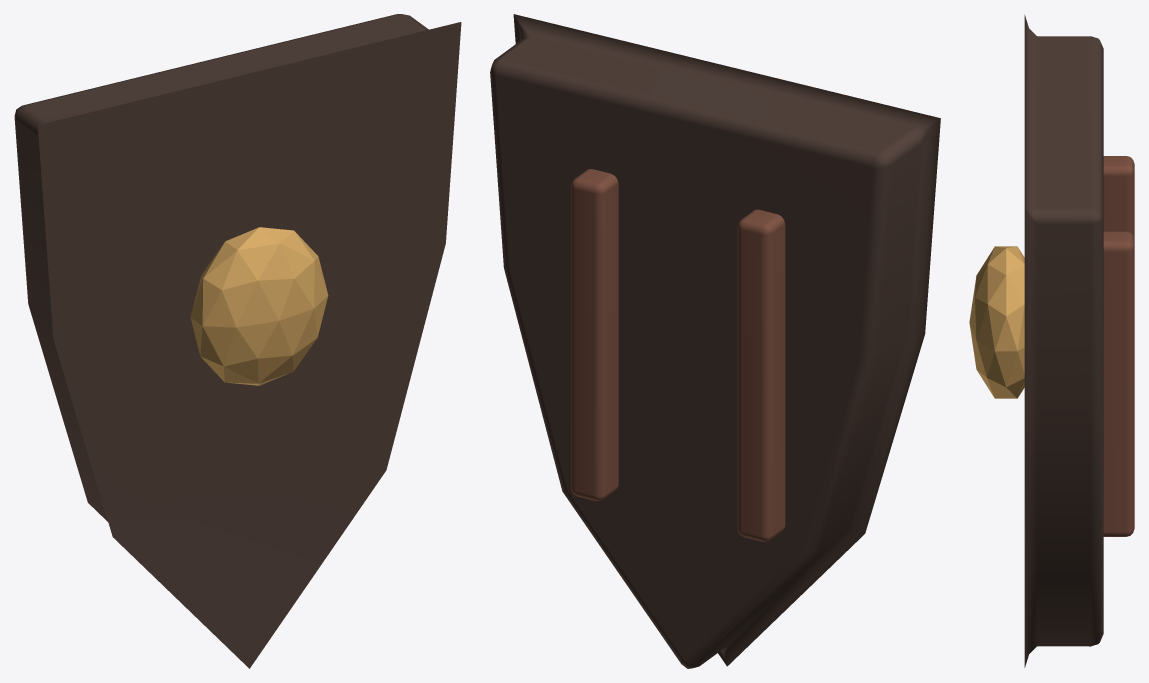
The model's file is fitted_shield.glb.
3 renders of one model, left to right at view 1: azimuth 30°, elevation 25°; view 2: azimuth 150°, elevation 25°; view 3: azimuth 270°, elevation 25°, orthographic. The views are drawn at different scales.
Parts seen in each view (by area): view 1: Shield | steel-rimmed body, Shield | boss; view 2: Shield | steel-rimmed body, Shield | back arm strap, Shield | back arm strap.001; view 3: Shield | steel-rimmed body, Shield | back arm strap.001, Shield | boss, Shield | back arm strap.
Boxes of the visible parts, x1=… form: Shield | steel-rimmed body: x1=14, y1=14, x2=461, y2=668; Shield | boss: x1=190, y1=227, x2=328, y2=385; Shield | steel-rimmed body: x1=490, y1=14, x2=940, y2=668; Shield | back arm strap: x1=737, y1=209, x2=785, y2=541; Shield | back arm strap.001: x1=571, y1=169, x2=618, y2=500; Shield | steel-rimmed body: x1=1024, y1=15, x2=1103, y2=667; Shield | back arm strap.001: x1=1103, y1=231, x2=1134, y2=536; Shield | boss: x1=969, y1=246, x2=1024, y2=398; Shield | back arm strap: x1=1103, y1=156, x2=1134, y2=239.
Bounding box in the file's own units: 0.4359 × 0.5853 × 0.157.
